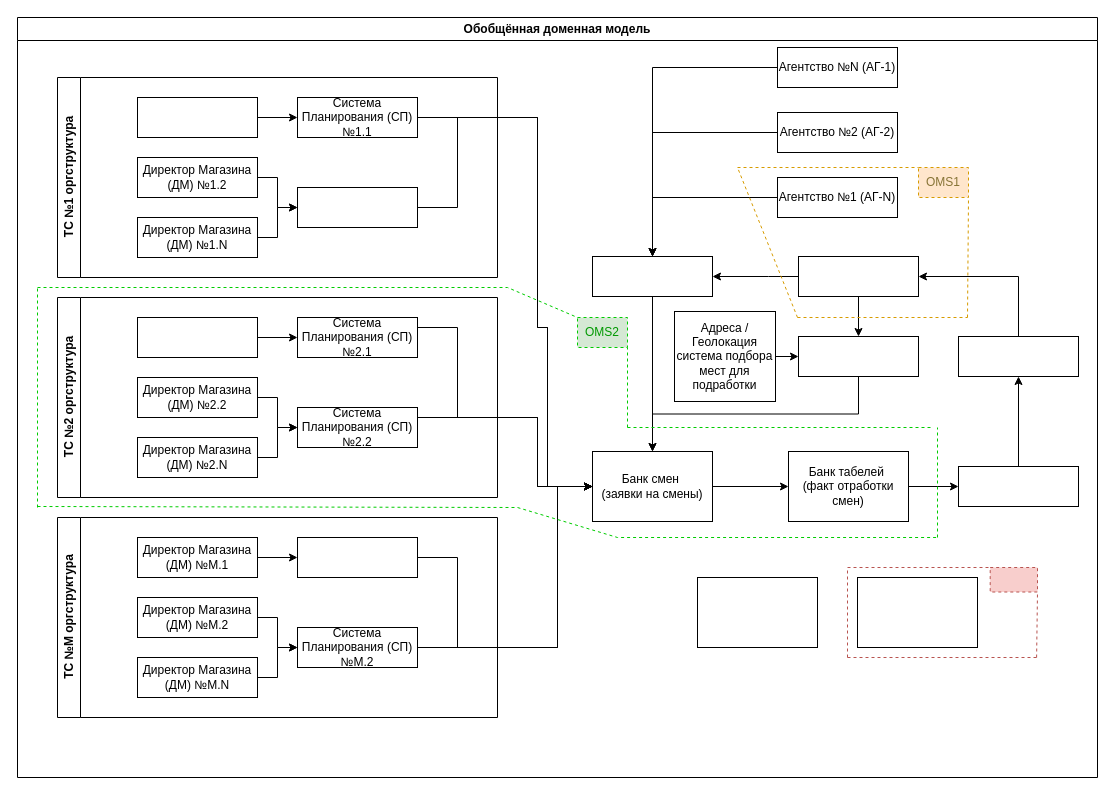
Image size: 1115x795. Some labels were removed from this diagram. The centre of each missing label's shape, as x and y in pixels:
"OMS3" belongs at pixel 1013 579.
"Бухгалтерия" belongs at pixel 1018 486.
"Директор Магазина (ДМ) №1.1" belongs at pixel 197 117.
"Директор Магазина (ДМ) №2.1" belongs at pixel 197 337.
"Исполнители (СЗ)" belongs at pixel 858 276.
"Мобильное приложение (МП) СЗ" belongs at pixel 858 356.
"Оплата смен" belongs at pixel 1018 356.
"Портал Аутсорсинга (ПА)" belongs at pixel 652 276.
"Система Информирования (СИ)" belongs at pixel 757 612.
"Система Отчётов (СО)" belongs at pixel 917 612.
"Система Планирования (СП) №1.2" belongs at pixel 357 207.
"Система Планирования (СП) №M.1" belongs at pixel 357 557.
